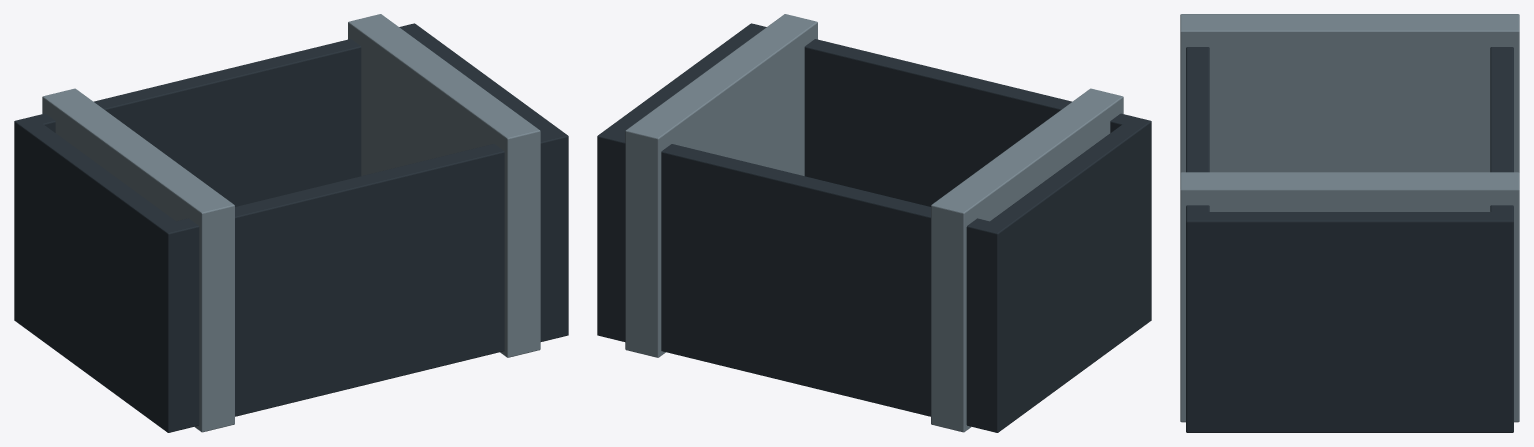
The model's file is SM_Lab_ToolCase.fbx.
3 views of the same model, side by side, from view 1: azimuth 30°, elevation 25°; view 2: azimuth 150°, elevation 25°; view 3: azimuth 270°, elevation 25° (orthographic). The views are drawn at different scales.
Visible parts, largest first — view 1: SM_Lab_ToolCase; view 2: SM_Lab_ToolCase; view 3: SM_Lab_ToolCase.
Part boxes in pixels (x1,y1,x2,y2): SM_Lab_ToolCase: (14,14,568,432); SM_Lab_ToolCase: (597,14,1151,432); SM_Lab_ToolCase: (1180,14,1519,432).
Bounding box in the file's own units: 42 × 29 × 22.
